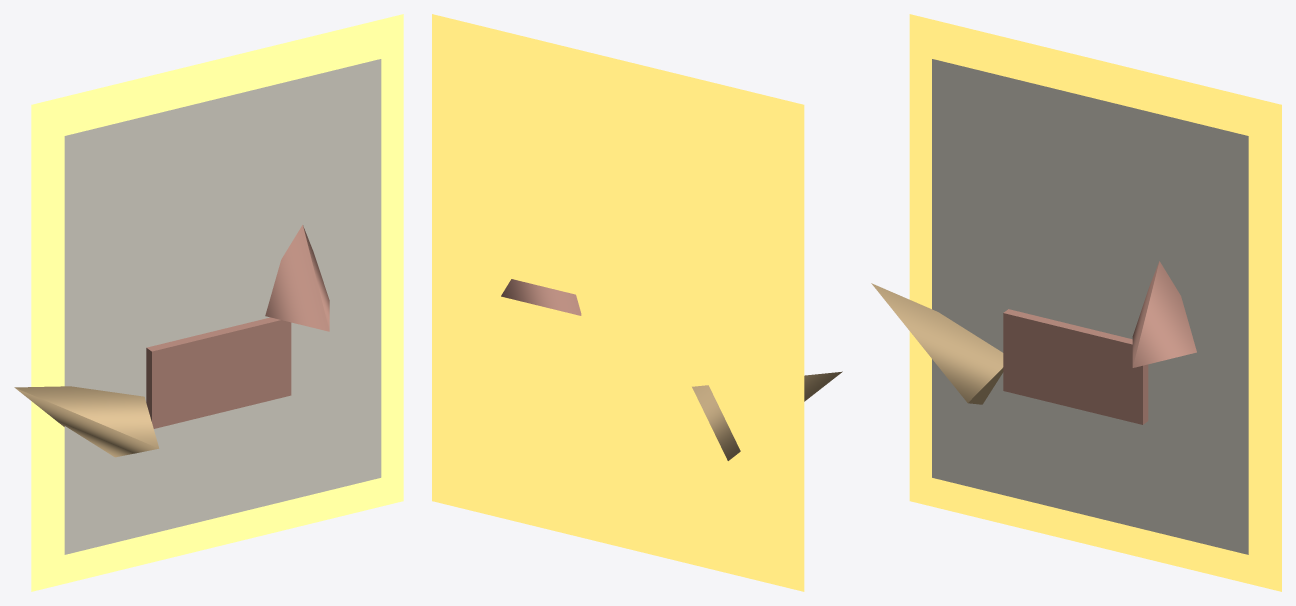
The model's file is portrait-fox-lit.gltf.
3 views of the same model, side by side, from view 1: azimuth 30°, elevation 25°; view 2: azimuth 150°, elevation 25°; view 3: azimuth 330°, elevation 25° (orthographic).
Visible parts, largest first — view 1: Mount, Frame, Body, Tail, Head; view 2: Frame, Tail, Head; view 3: Mount, Frame, Body, Tail, Head.
Part boxes in pixels (<box>): Mount: <box>64,59,381,554</box>; Frame: <box>31,14,403,591</box>; Body: <box>146,317,291,428</box>; Tail: <box>14,386,159,457</box>; Head: <box>265,225,329,331</box>; Frame: <box>432,14,804,591</box>; Tail: <box>692,371,842,460</box>; Head: <box>501,279,581,315</box>; Mount: <box>932,59,1248,554</box>; Frame: <box>909,14,1281,591</box>; Body: <box>1003,309,1148,424</box>; Tail: <box>871,283,1003,404</box>; Head: <box>1132,261,1196,367</box>.
Bounding box in the file's own units: 0.8598 × 1 × 0.15.
